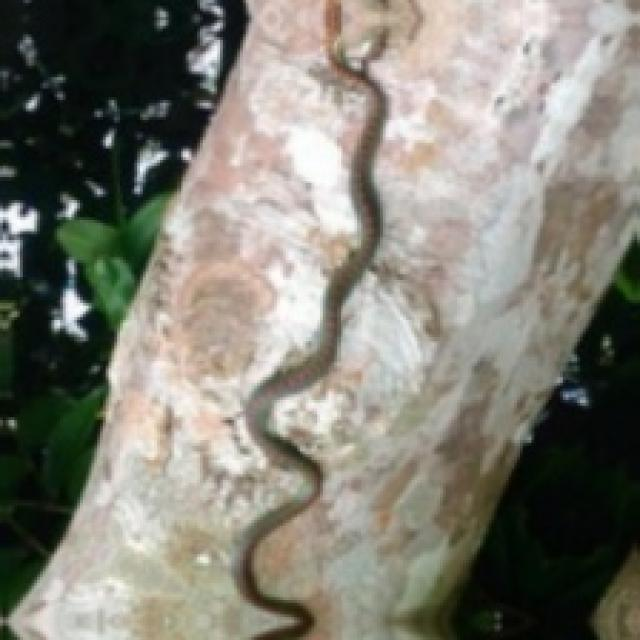paradise tree snake: (234, 0, 386, 637)
